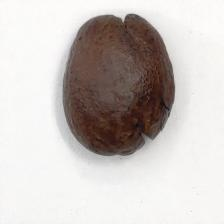NG: (131, 99, 172, 146), (110, 11, 138, 31)
